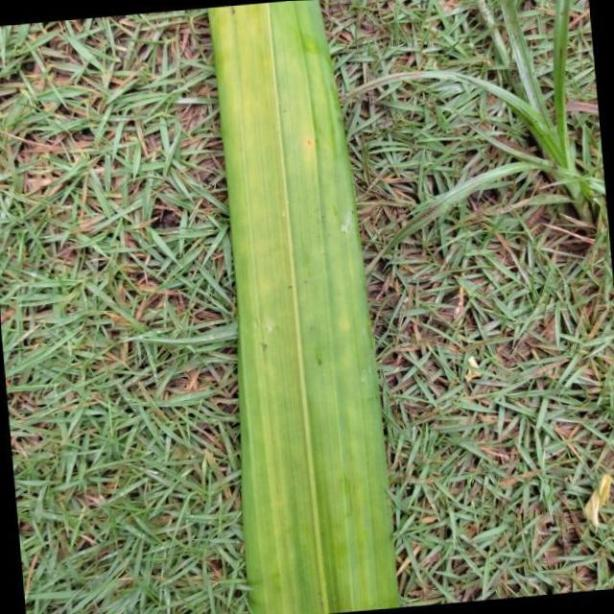nitrogen: (209, 1, 398, 614)
